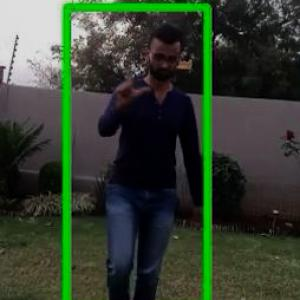land_hand: (108, 64, 146, 104)
